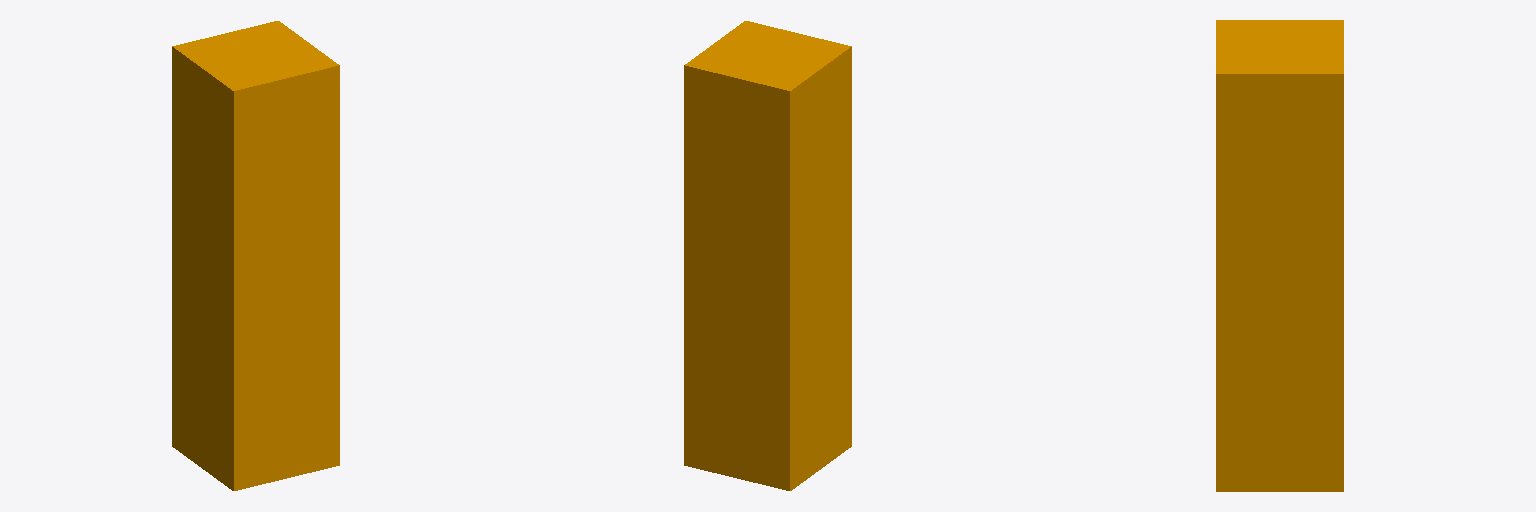
URDF robot description (boxA):
<?xml version="1.0"?>
<robot name="boxA">
  <material name="Wood">
    <color rgba="0.827 0.675 0.463 1.0"/>
  </material>
  <material name="Color">
    <color rgba="0.631, 0.125, 0.125, 1.0"/>
  </material>
  <material name="Metal">
    <color rgba="0.718, 0.753, 0.749, 1.0"/>
  </material>
  <link name="base_link">
     <inertial>
      <mass value="0.5" />
      <!-- center of mass (com) is defined w.r.t. link local coordinate system -->
      <origin xyz="0 0 0" />
      <inertia  ixx="0.01" ixy="0.0"  ixz="0.0"  iyy="0.01"  iyz="0.0"  izz="0.01" />
    </inertial>
    <visual>
      <origin xyz="0 0 0" rpy="0 0 0" />
      <geometry>
        <box size="0.05 0.05 0.18" />
      </geometry>
      <material name="Color"/>
    </visual>
    <collision>
      <origin xyz="0 0 0" rpy="0 0 0" />
      <geometry>
        <box size="0.05 0.05 0.18" />
      </geometry>
    </collision>
  </link>
</robot>

--- Facts derived from the render (not from the file) ---
The picture shows the robot from 3 angles, left to right: view 1: azimuth 30°, elevation 25°; view 2: azimuth 150°, elevation 25°; view 3: azimuth 270°, elevation 25°; orthographic projection.
Model boxA with 1 links and 0 joints (none), rooted at base_link, posed every joint at zero.
Visible links, largest first — view 1: base_link; view 2: base_link; view 3: base_link.
Boxes of the visible links, bbox=[...] form: base_link: bbox=[172, 21, 339, 490]; base_link: bbox=[684, 21, 851, 490]; base_link: bbox=[1216, 20, 1343, 491].
Size in the robot's own frame: 0.05 by 0.05 by 0.18 metres.
Geometry: primitives only (box / cylinder / sphere), no mesh files.
